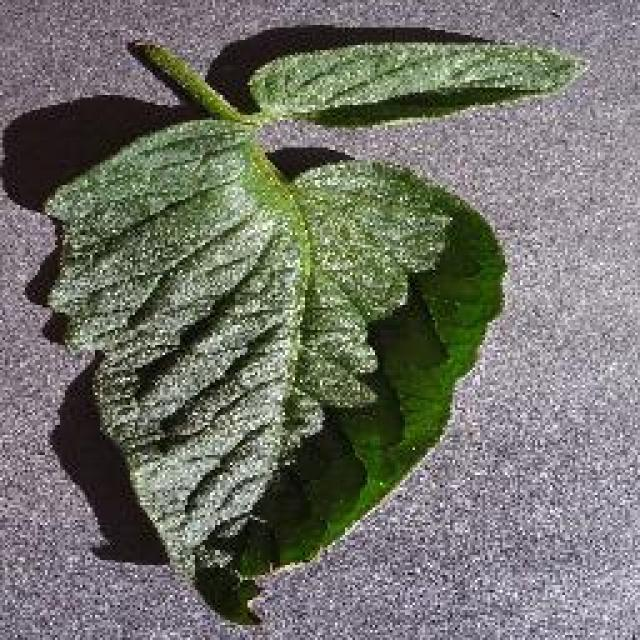Tomato___healthy: (37, 26, 592, 626)
